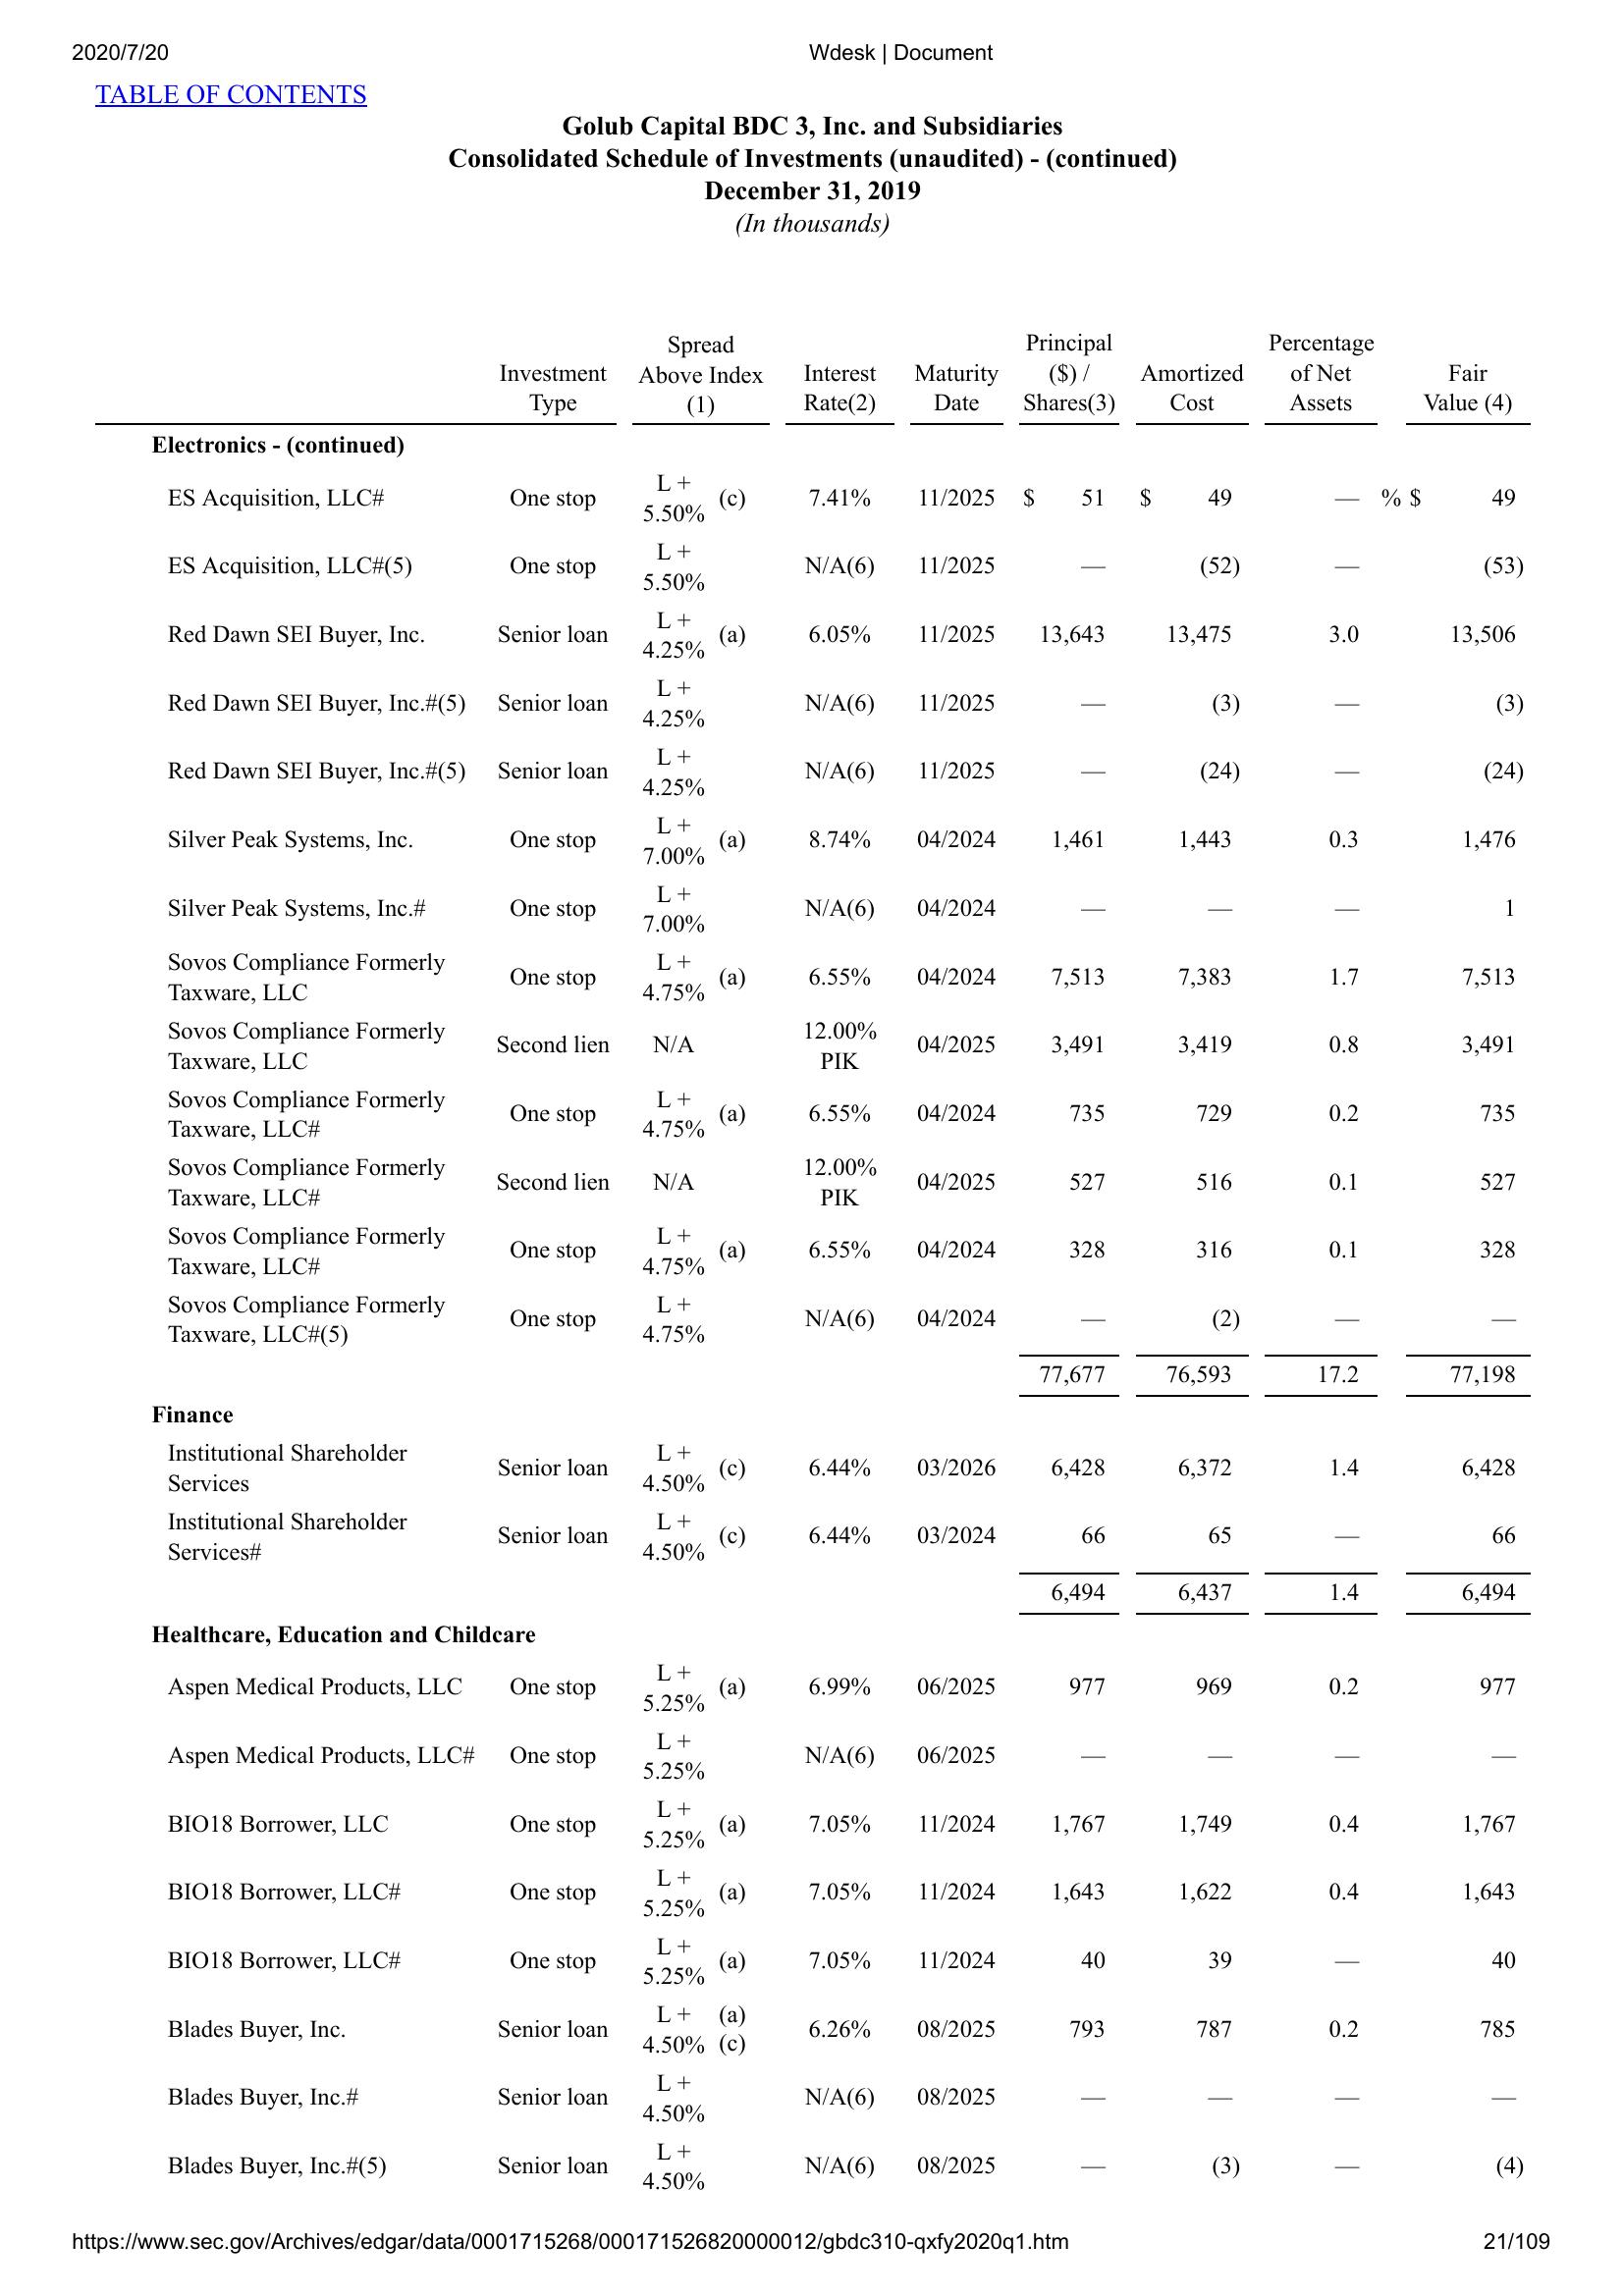table: (86, 334, 1535, 2191)
